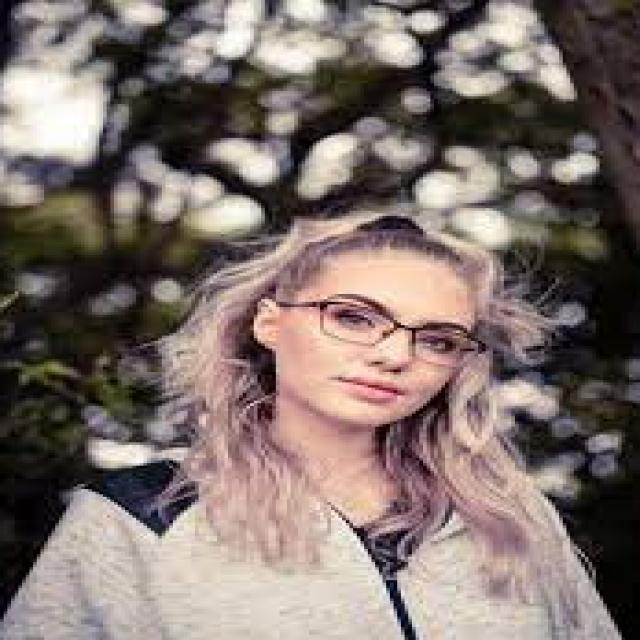Glasses: (304, 286, 485, 373)
